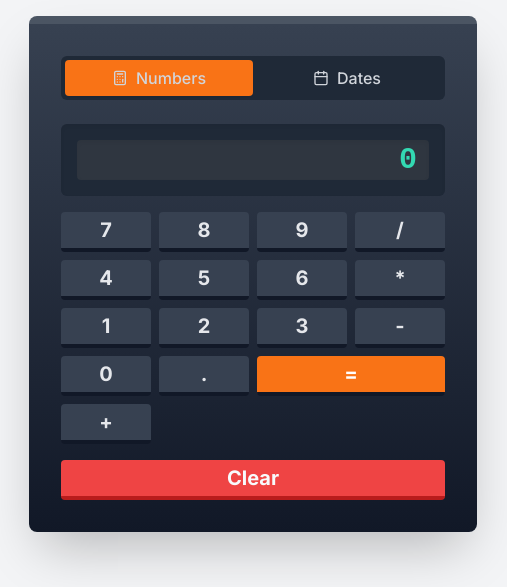
Scenario: Numbers Calculator › should clear the display
This screenshot has width=507, height=587.
Click the button "1". click: click(106, 328)
box: [61,308,151,348]
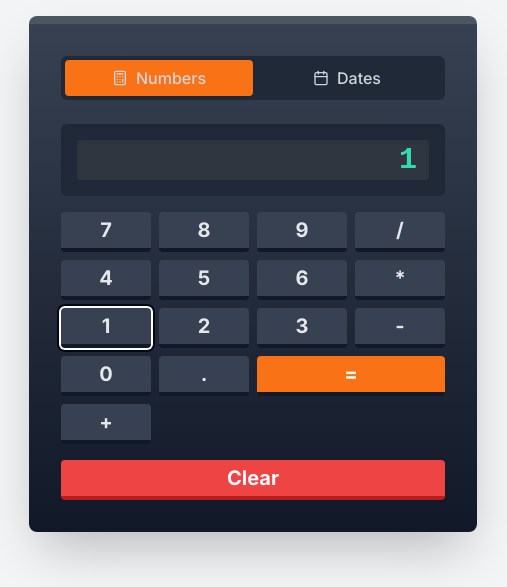
Click the button with test id "clear-button". click: click(253, 480)
box: [61,460,445,500]
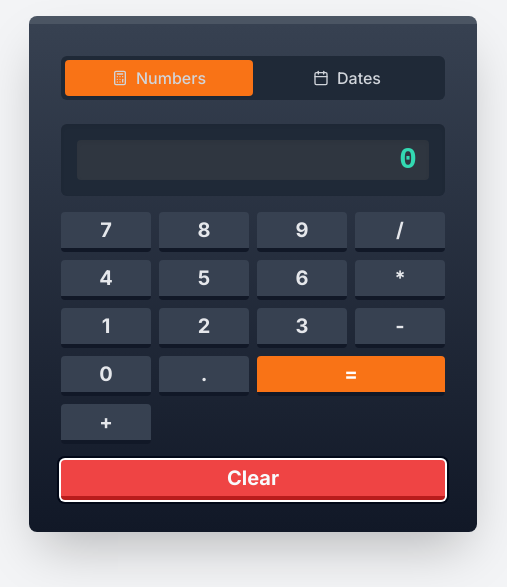
Check: the field with test id "number-display" holds "0", box [77,140,429,180]
